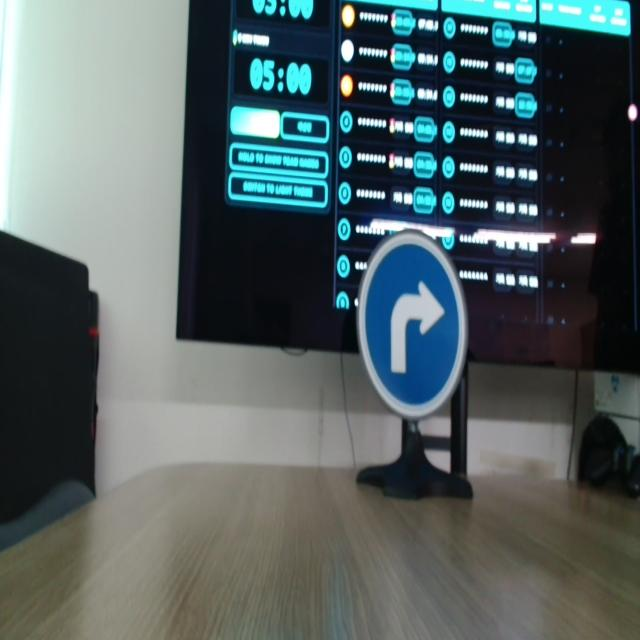right_dierection: (354, 224, 470, 422)
